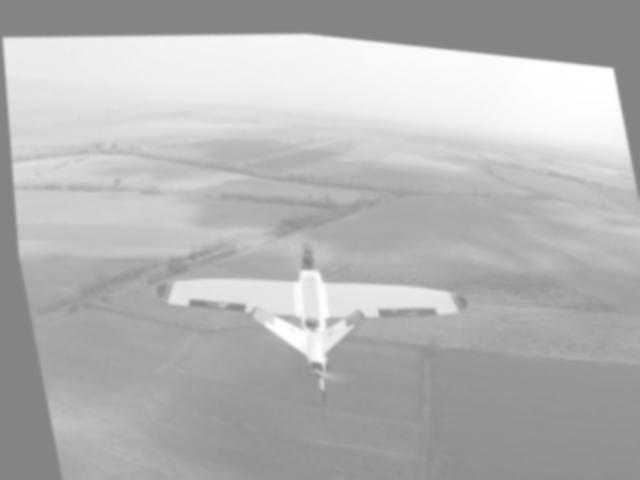hedef: (122, 159, 490, 434)
